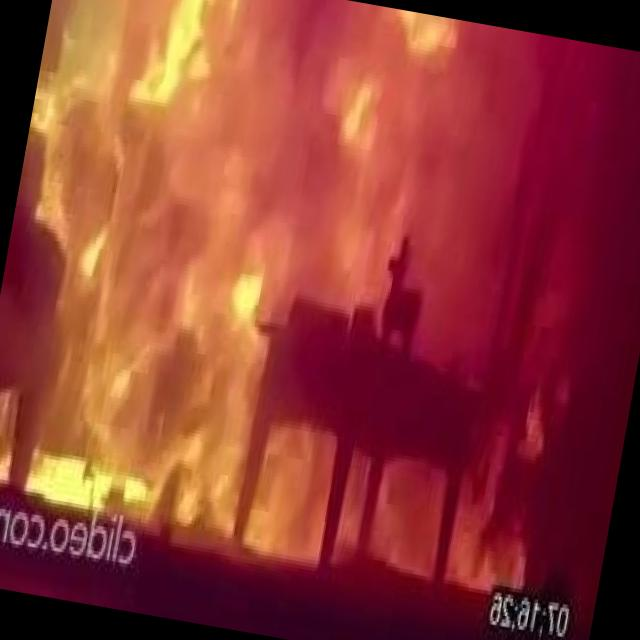fire: (0, 0, 589, 573)
